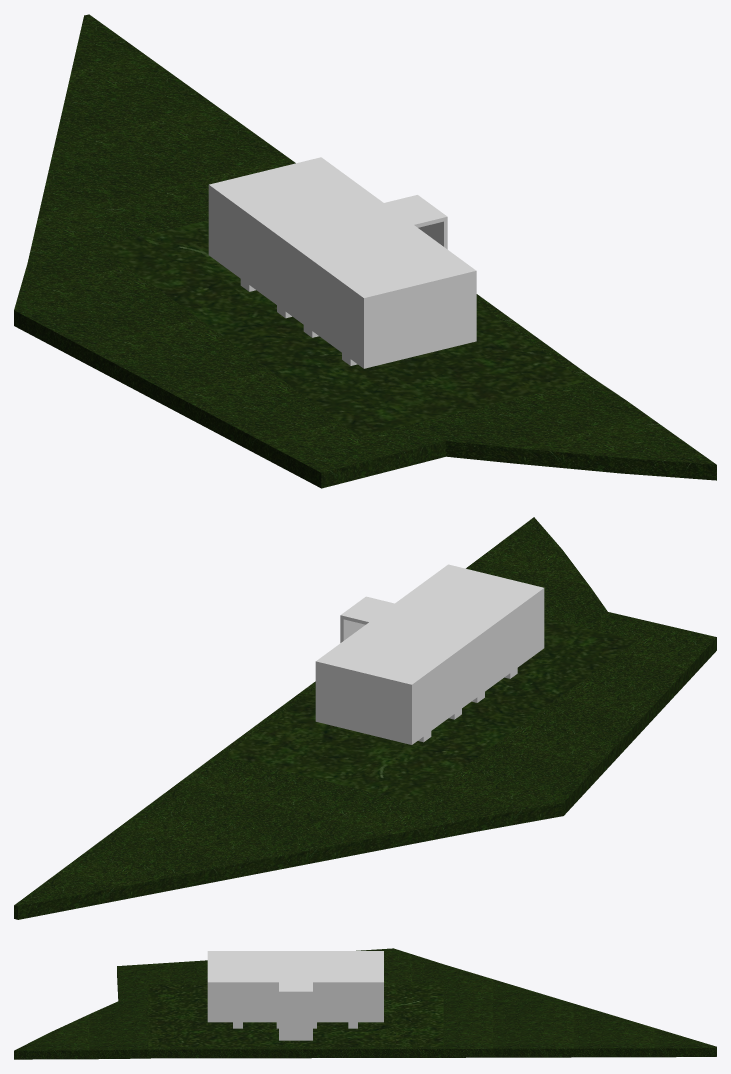
The model's file is Abandoned Luncheonette.glb.
3 views of the same model, one above another, from view 1: azimuth 30°, elevation 25°; view 2: azimuth 150°, elevation 25°; view 3: azimuth 270°, elevation 25° (orthographic). The views are drawn at different scales.
Parts seen in each view (by area): view 1: Ground.001, Ground, Base, Cube, Base.001; view 2: Ground.001, Ground, Base, Cube, Base.001; view 3: Ground.001, Ground, Base, Cube, Base.001.
Part boxes in pixels (box(x1,y1,x2,y2)): Ground.001: box(14, 14, 716, 488); Ground: box(100, 220, 584, 436); Base: box(208, 157, 476, 301); Cube: box(208, 189, 476, 364); Base.001: box(208, 195, 476, 368); Ground.001: box(14, 517, 716, 919); Ground: box(223, 618, 636, 802); Base: box(315, 564, 544, 687); Cube: box(315, 591, 544, 741); Base.001: box(315, 596, 544, 744); Ground.001: box(14, 948, 716, 1059); Ground: box(148, 984, 443, 1046); Base: box(207, 951, 383, 984); Cube: box(207, 984, 383, 1019); Base.001: box(207, 982, 383, 1040).
Size of the model in its own units: 14.98 by 3.96 by 43.53.
1 material, 1 textured.
